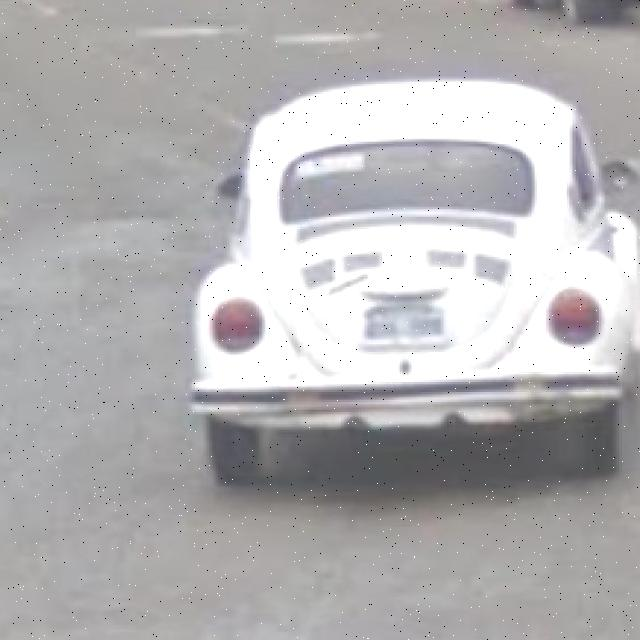car: (190, 88, 640, 484)
